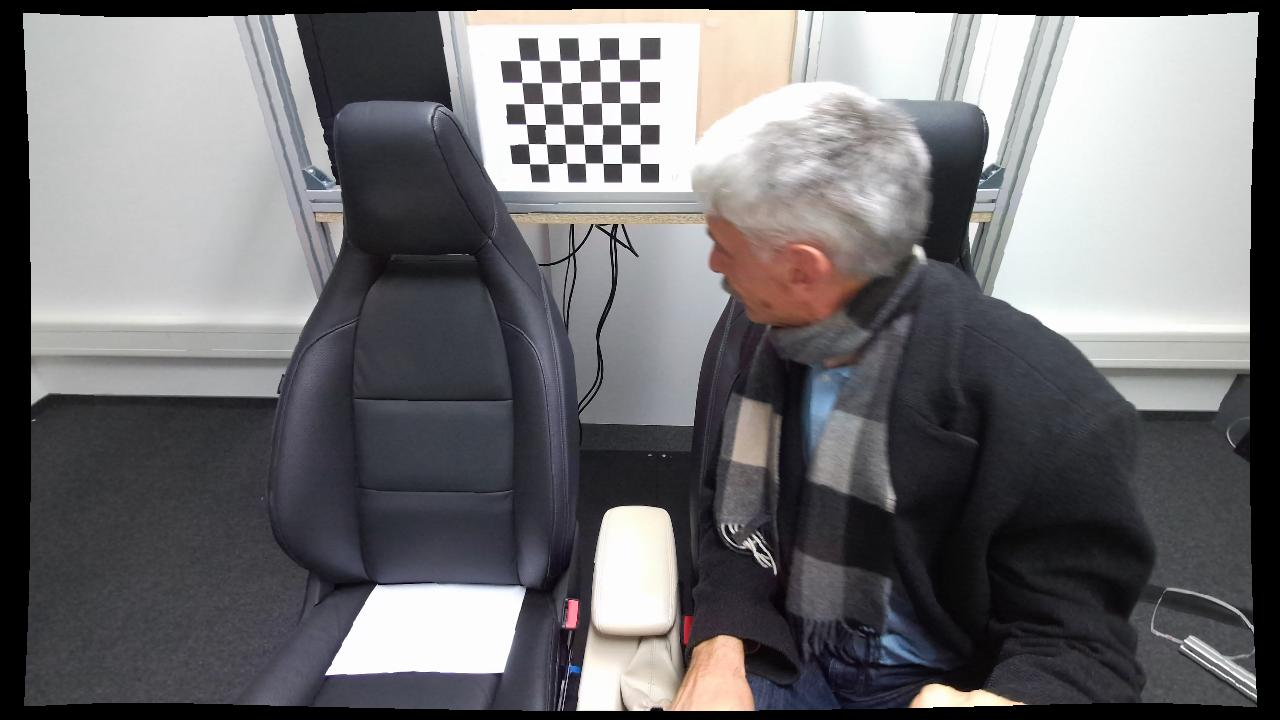Distracted: (667, 74, 1140, 713)
